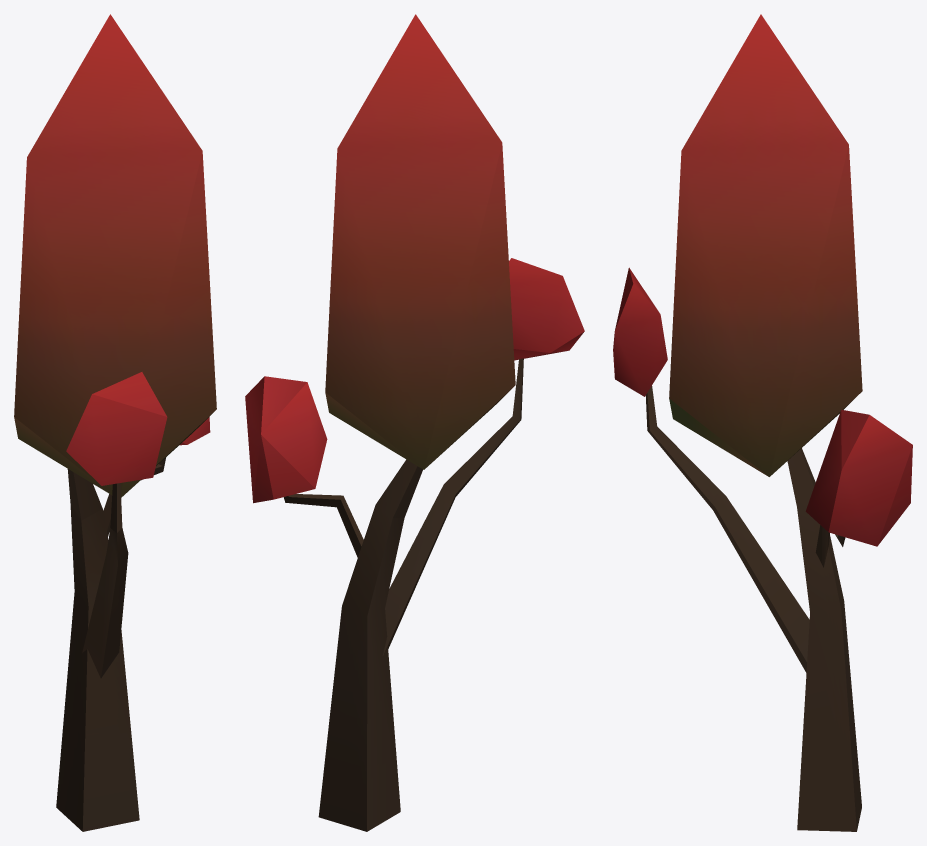
The model's file is red-tree.glb.
3 views of the same model, side by side, from view 1: azimuth 30°, elevation 25°; view 2: azimuth 150°, elevation 25°; view 3: azimuth 270°, elevation 25° (orthographic). The views are drawn at different scales.
Parts seen in each view (by area): view 1: Object_3; view 2: Object_3; view 3: Object_3.
Boxes of the visible parts, x1,y1,x2,y2 form: Object_3: (14, 14, 216, 831); Object_3: (245, 14, 584, 831); Object_3: (613, 14, 912, 831).
Bounding box in the file's own units: 3.14 × 9.94 × 3.4.
1 material, 1 textured.
